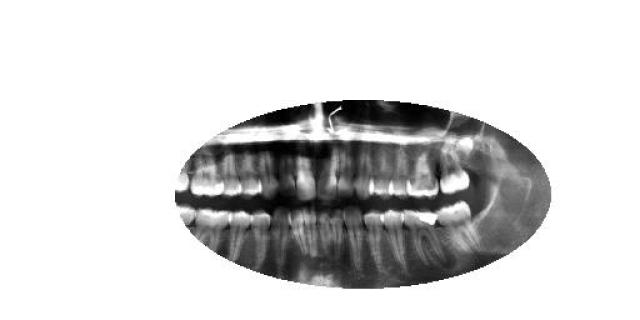Fillings: (402, 202, 443, 264), (186, 144, 225, 198)
